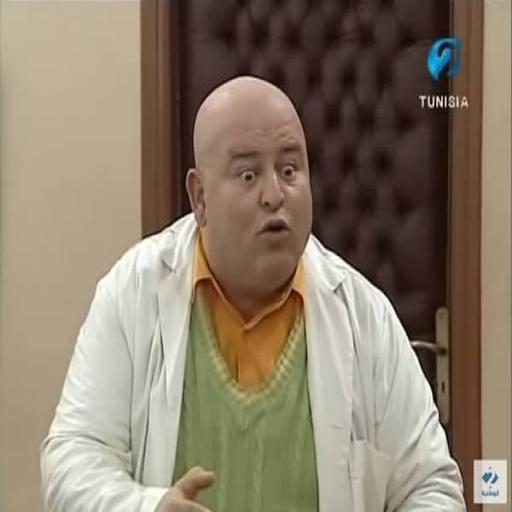sboui: (186, 77, 312, 292)
